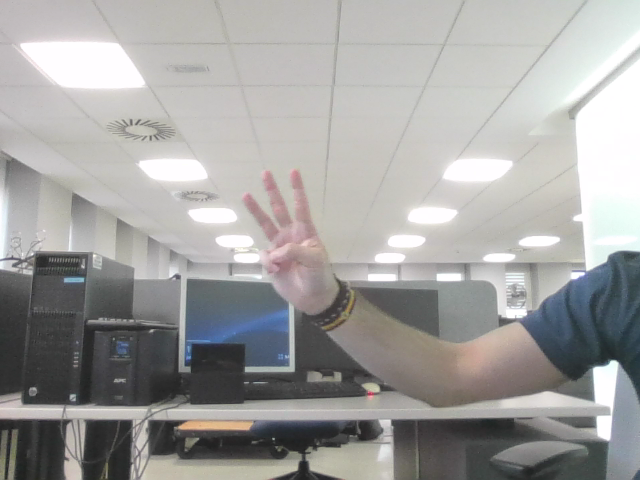3Dedos: (249, 179, 315, 274)
